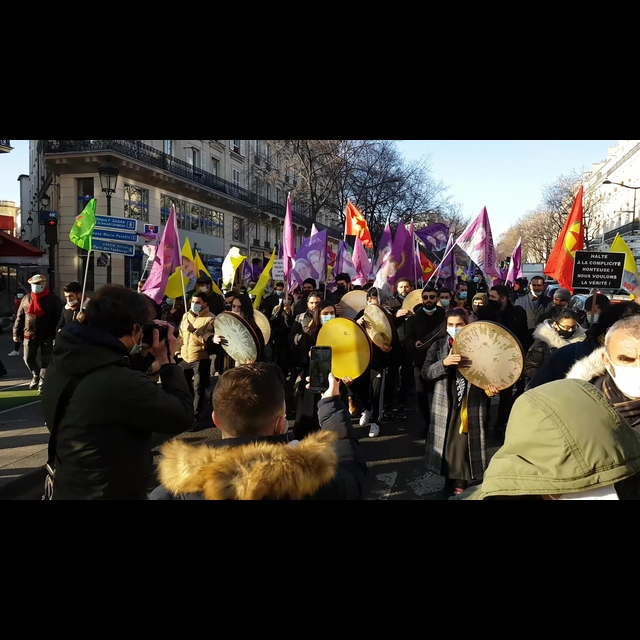PKK: (558, 218, 592, 268)
